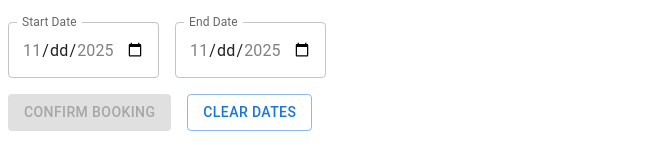
Test: BookingPicker › clears dates when Clear Dates clicked
The width and height of the screenshot is (660, 160).
Type "2025-11-20" into the date field labelled "Start Date".
click(84, 50); type("2025-11-20")  # box [8,22,159,78]
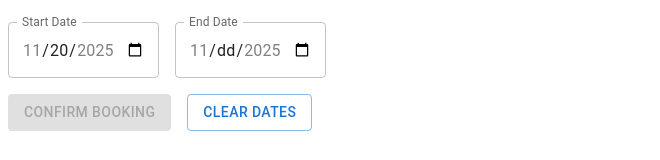
Type "2025-11-21" into the date field labelled "End Date".
click(250, 50); type("2025-11-21")  # box [175,22,326,78]
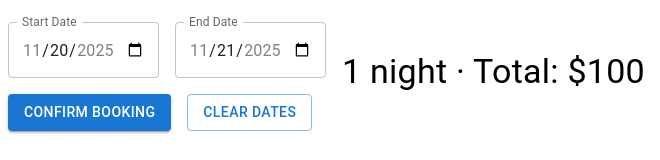
Click the button "Clear Dates".
click(250, 112)  # box [187,94,312,130]
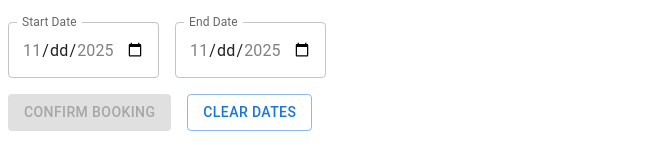
Now the date field labelled "Start Date" is empty, box [8,22,159,78]
Now the date field labelled "End Date" is empty, box [175,22,326,78]
